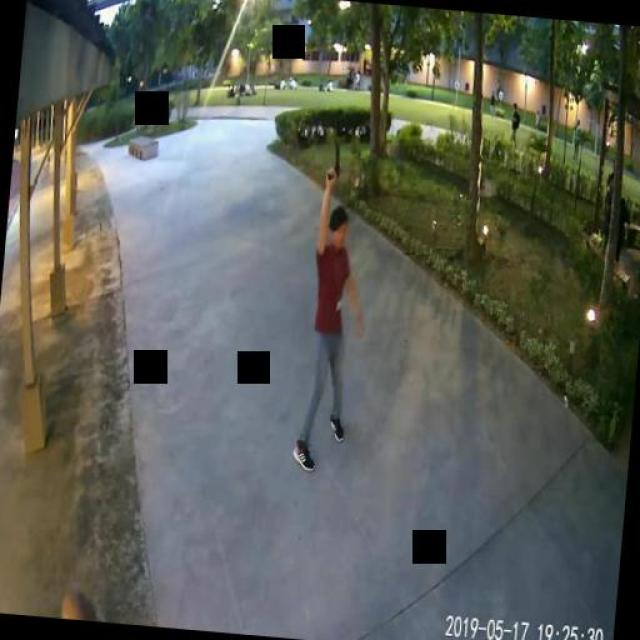gun: (324, 142, 341, 180)
